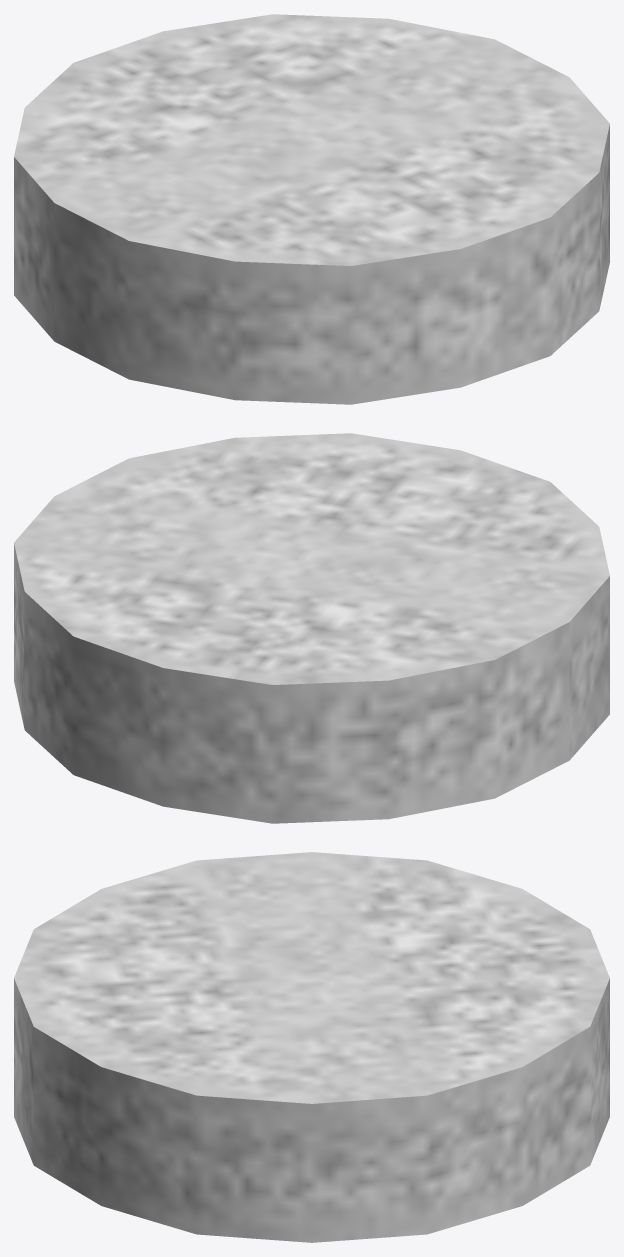
The model's file is pills_1.fbx.
3 views of the same model, one above another, from view 1: azimuth 30°, elevation 25°; view 2: azimuth 150°, elevation 25°; view 3: azimuth 270°, elevation 25° (orthographic).
Visible parts, largest first — view 1: pills_1; view 2: pills_1; view 3: pills_1.
Boxes of the visible parts, x1,y1,x2,y2 form: pills_1: [14, 14, 609, 404]; pills_1: [14, 433, 609, 823]; pills_1: [14, 852, 609, 1242].
Size of the model in its own units: 0.0133 by 0.00341 by 0.0133.
